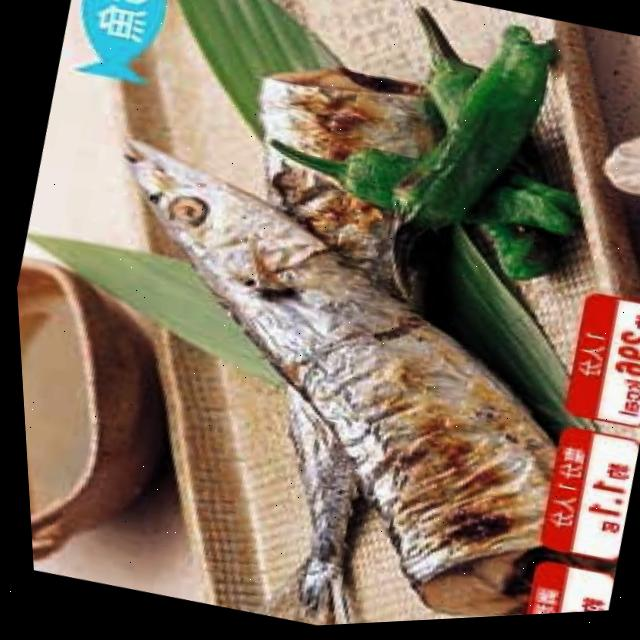熟制海鲜: (51, 42, 611, 638)
